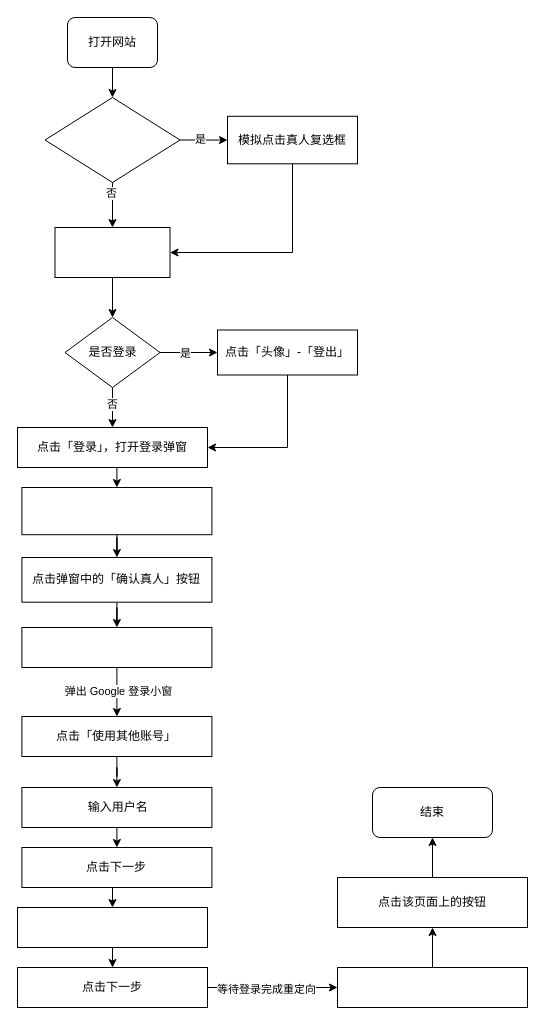
The diagram is 545 pixels wide and 1025 high, and some of its shapes have lost their labels. The shapes that lost their labels are listed below. From the top down, each one's box as (x1, y1, x2, y2) in pixels, then its label:
(44, 96, 180, 182): 是否有真人认证？
(54, 226, 170, 278): 打开页面
(21, 486, 212, 535): 拿到插件配置的账号密码登录
(21, 626, 212, 668): 点击下方「Google」登录
(16, 906, 208, 948): 输入密码
(336, 966, 528, 1008): 点击 id=' go_exp '
